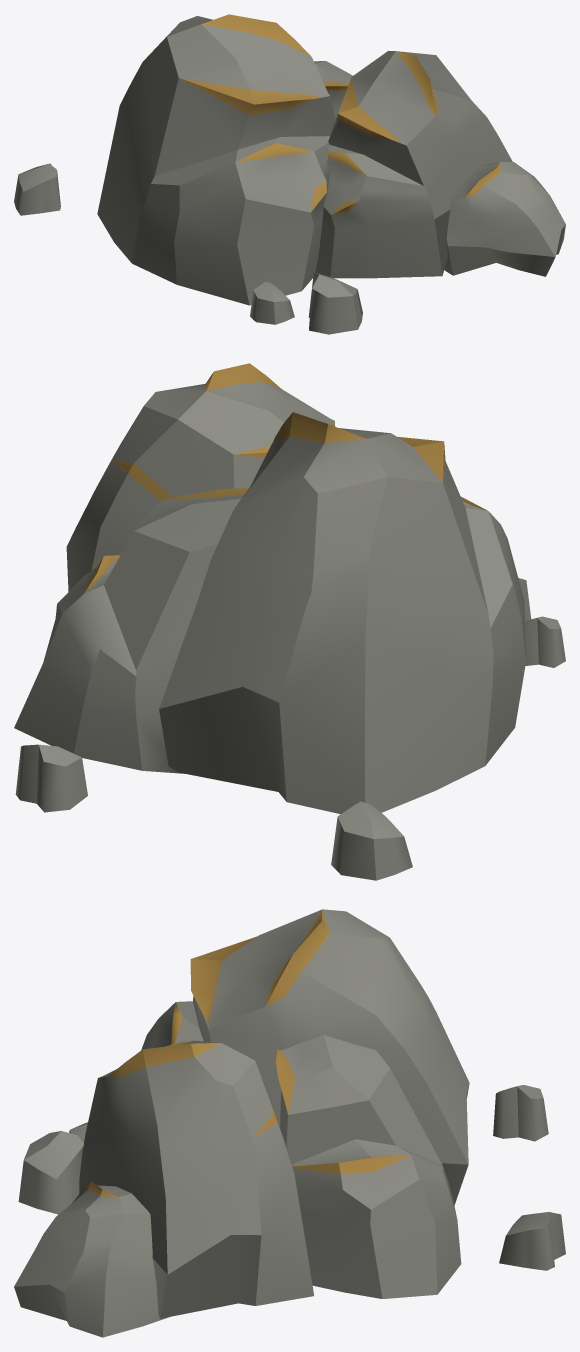
The model's file is gold-rocks.glb.
3 views of the same model, one above another, from view 1: azimuth 30°, elevation 25°; view 2: azimuth 150°, elevation 25°; view 3: azimuth 270°, elevation 25° (orthographic). The views are drawn at different scales.
Parts seen in each view (by area): view 1: Resource_Gold_1; view 2: Resource_Gold_1; view 3: Resource_Gold_1.
Part boxes in pixels (x1,y1,x2,y2): Resource_Gold_1: (14, 14, 565, 334); Resource_Gold_1: (14, 363, 565, 880); Resource_Gold_1: (14, 909, 565, 1337).
Bounding box in the file's own units: 0.7402 × 0.4217 × 0.7609.
